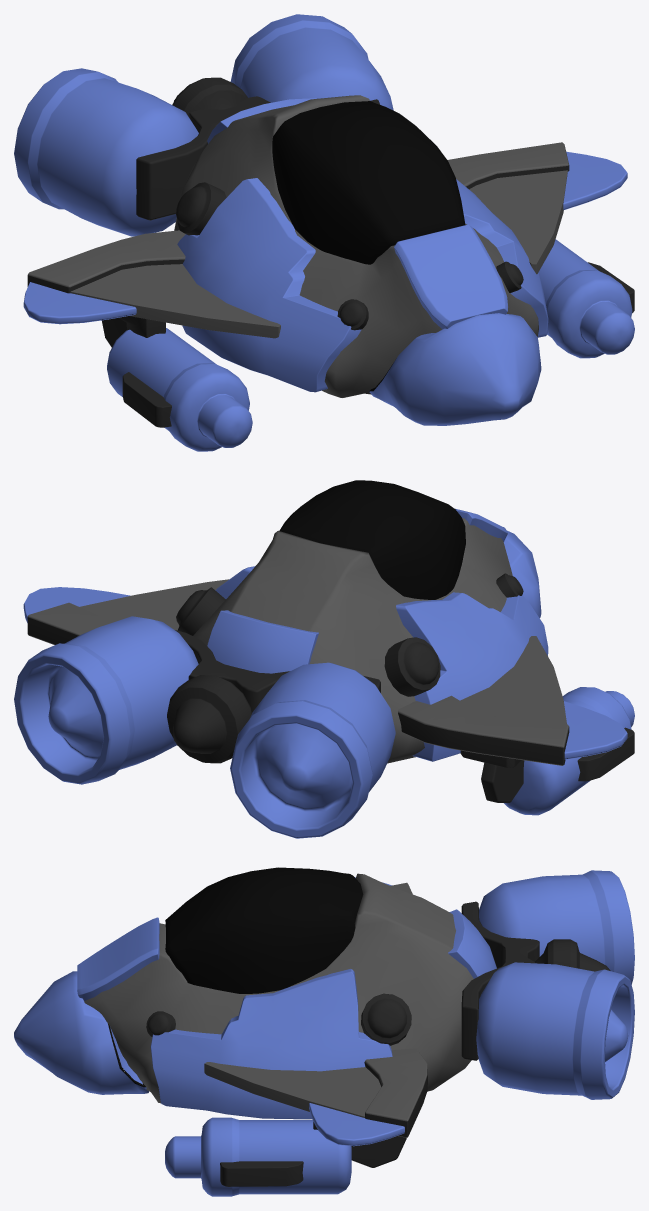
File: Main.glb
The picture shows the model from 3 angles, top to bottom: view 1: azimuth 30°, elevation 25°; view 2: azimuth 150°, elevation 25°; view 3: azimuth 270°, elevation 25°; orthographic projection. The views are drawn at different scales.
Visible parts, largest first — view 1: Spaceship_main_01_Hull, Spaceship_main_01_Engine, Spaceship_main_01_Wing_R, Spaceship_main_01_Weapon_R, Spaceship_main_01_Wing_L, Spaceship_main_01_Weapon_L; view 2: Spaceship_main_01_Hull, Spaceship_main_01_Engine, Spaceship_main_01_Wing_R, Spaceship_main_01_Weapon_R, Spaceship_main_01_Wing_L; view 3: Spaceship_main_01_Hull, Spaceship_main_01_Engine, Spaceship_main_01_Weapon_L, Spaceship_main_01_Wing_L.
Part boxes in pixels (left/top/right/bottom): Spaceship_main_01_Hull: left=174, top=95, right=548, bottom=425; Spaceship_main_01_Engine: left=14, top=14, right=393, bottom=236; Spaceship_main_01_Wing_R: left=23, top=230, right=280, bottom=338; Spaceship_main_01_Weapon_R: left=101, top=316, right=252, bottom=451; Spaceship_main_01_Wing_L: left=447, top=142, right=627, bottom=274; Spaceship_main_01_Weapon_L: left=538, top=239, right=634, bottom=358; Spaceship_main_01_Hull: left=176, top=480, right=548, bottom=763; Spaceship_main_01_Engine: left=14, top=616, right=395, bottom=838; Spaceship_main_01_Wing_R: left=398, top=636, right=627, bottom=765; Spaceship_main_01_Weapon_R: left=460, top=687, right=634, bottom=815; Spaceship_main_01_Wing_L: left=23, top=579, right=228, bottom=644; Spaceship_main_01_Hull: left=14, top=867, right=496, bottom=1119; Spaceship_main_01_Engine: left=461, top=870, right=634, bottom=1099; Spaceship_main_01_Weapon_L: left=165, top=1117, right=406, bottom=1196; Spaceship_main_01_Wing_L: left=204, top=1048, right=427, bottom=1146.
Size of the model in its own units: 6.14 by 2.54 by 6.13.
1 material, 1 textured.
